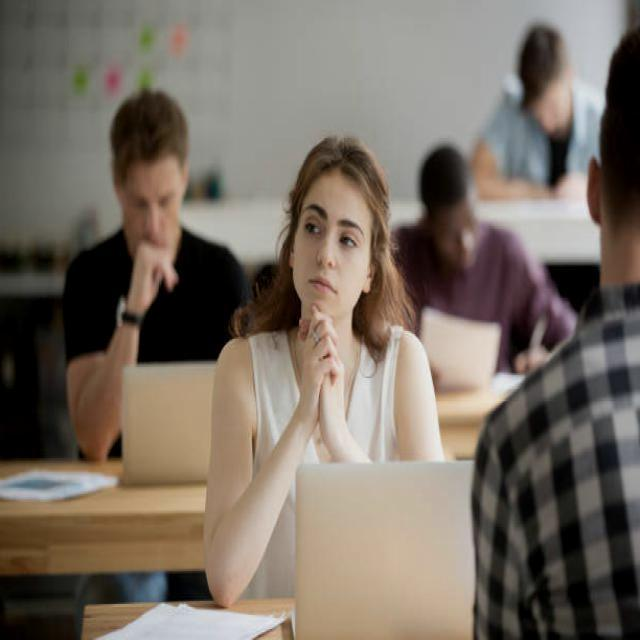Looking away: (291, 170, 371, 316), (123, 155, 184, 257), (431, 184, 482, 273)
